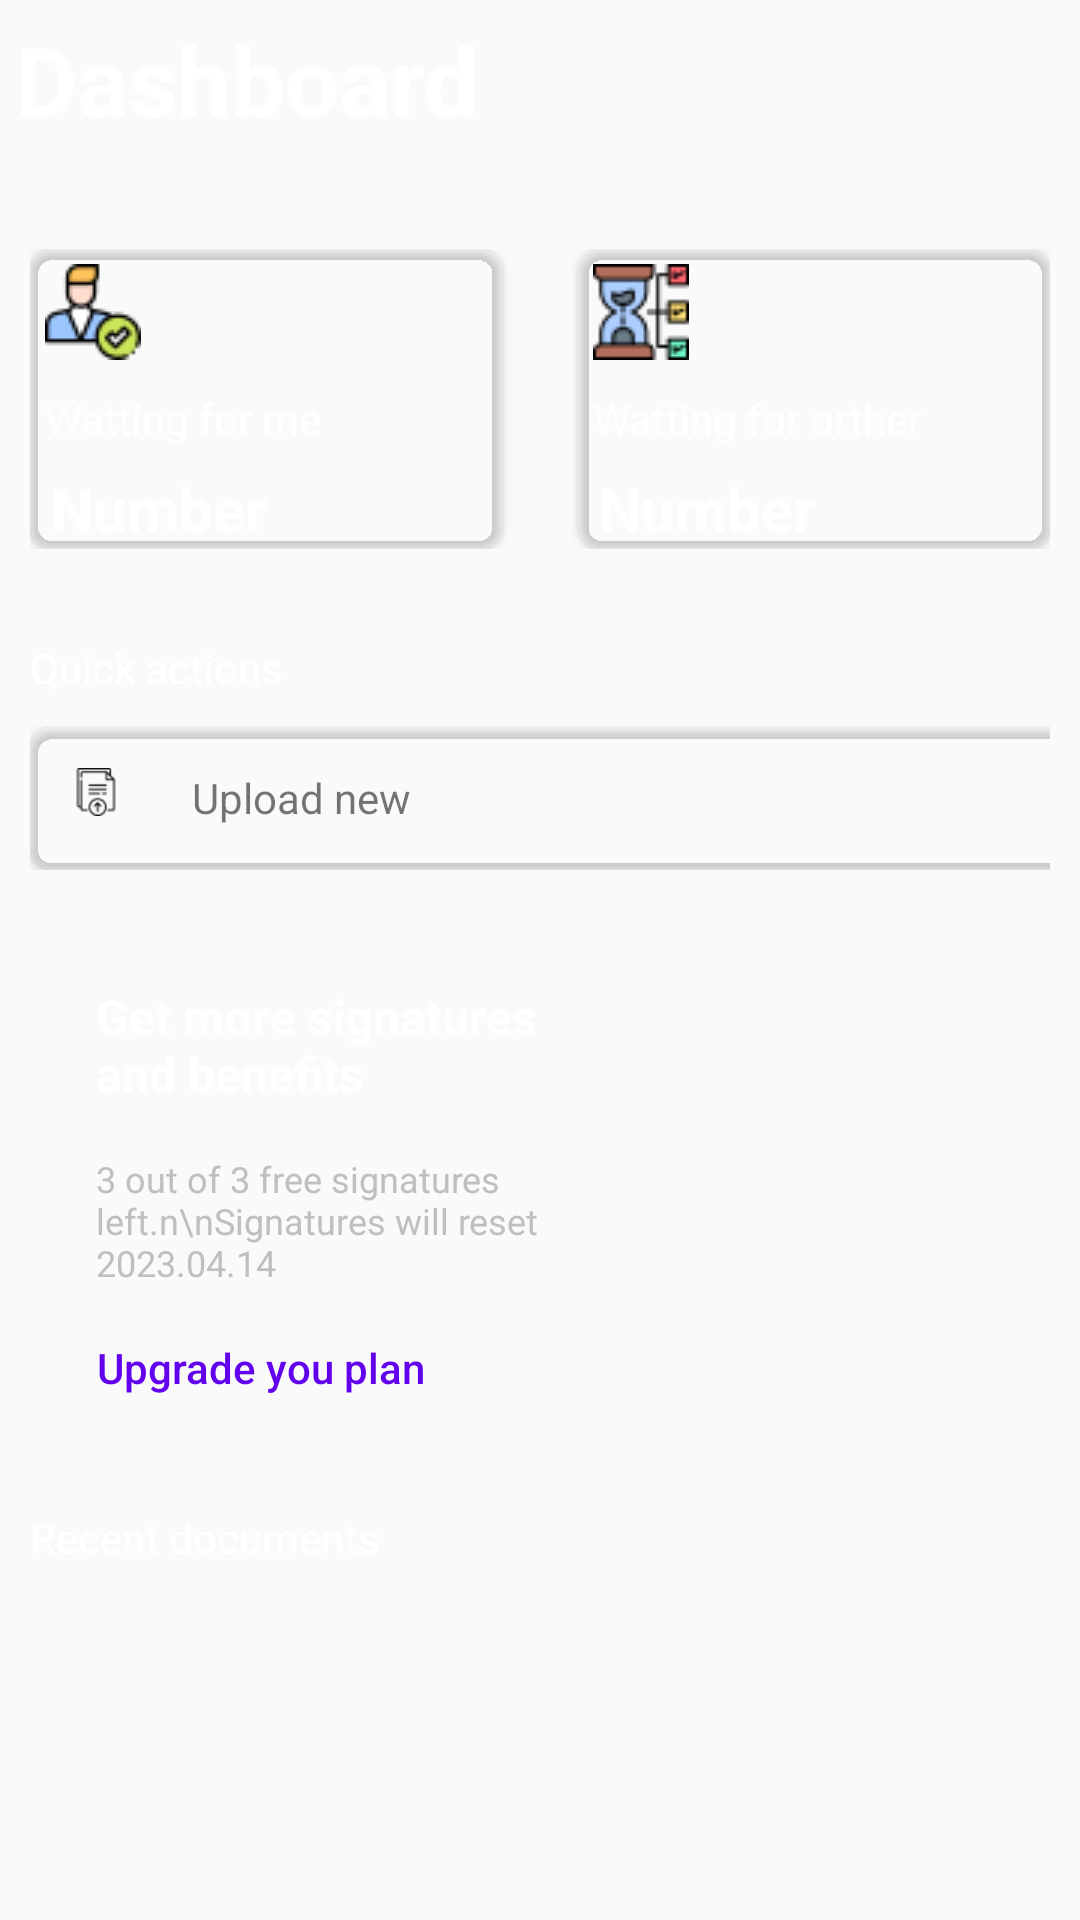

Screen size 1080×1920. Icon name, then its center in pixels as (x,y):
approval: (93,312)
sand clock: (641,312)
